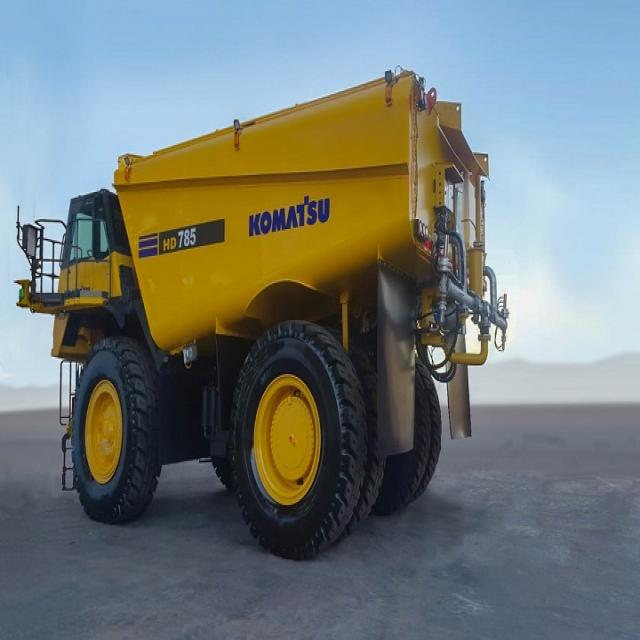dump_truck: (23, 58, 516, 552)
